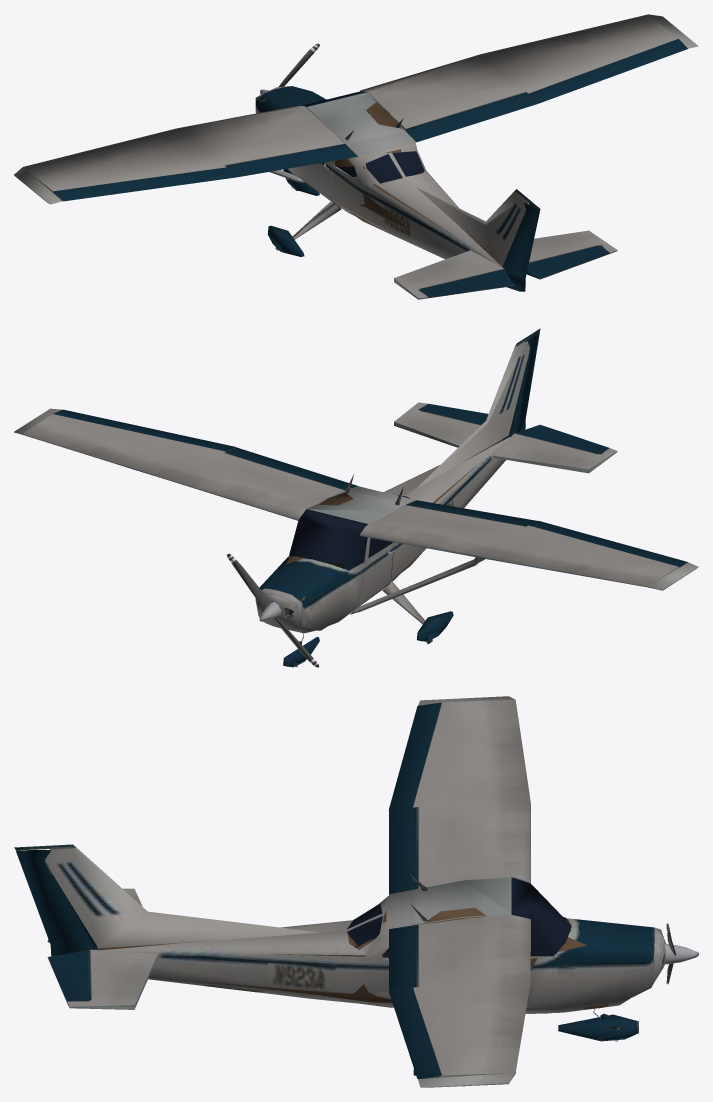
The picture shows the model from 3 angles, top to bottom: view 1: azimuth 30°, elevation 25°; view 2: azimuth 150°, elevation 25°; view 3: azimuth 270°, elevation 25°; orthographic projection. The views are drawn at different scales.
Visible parts, largest first — view 1: body; view 2: body, prop; view 3: body, prop.
Part boxes in pixels (left/top/right/bottom): body: left=14, top=14, right=698, bottom=299; body: left=14, top=328, right=698, bottom=667; prop: left=227, top=553, right=319, bottom=667; body: left=14, top=696, right=665, bottom=1087; prop: left=664, top=923, right=698, bottom=984.
Bounding box in the file's own units: 11 × 2.62 × 8.23.
Materials: 2 (1 with a texture image).
